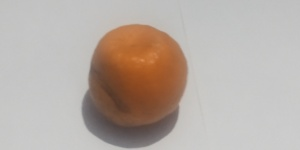BAD: (87, 22, 191, 128)
